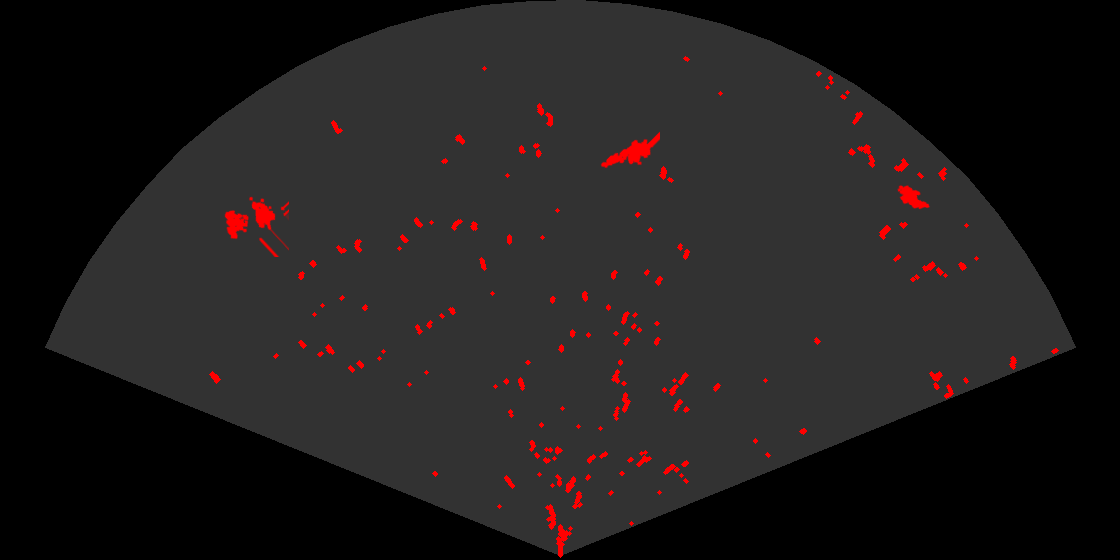AUV: (896, 184, 932, 211)
cage: (223, 195, 289, 257)
frogman: (599, 130, 660, 170)
